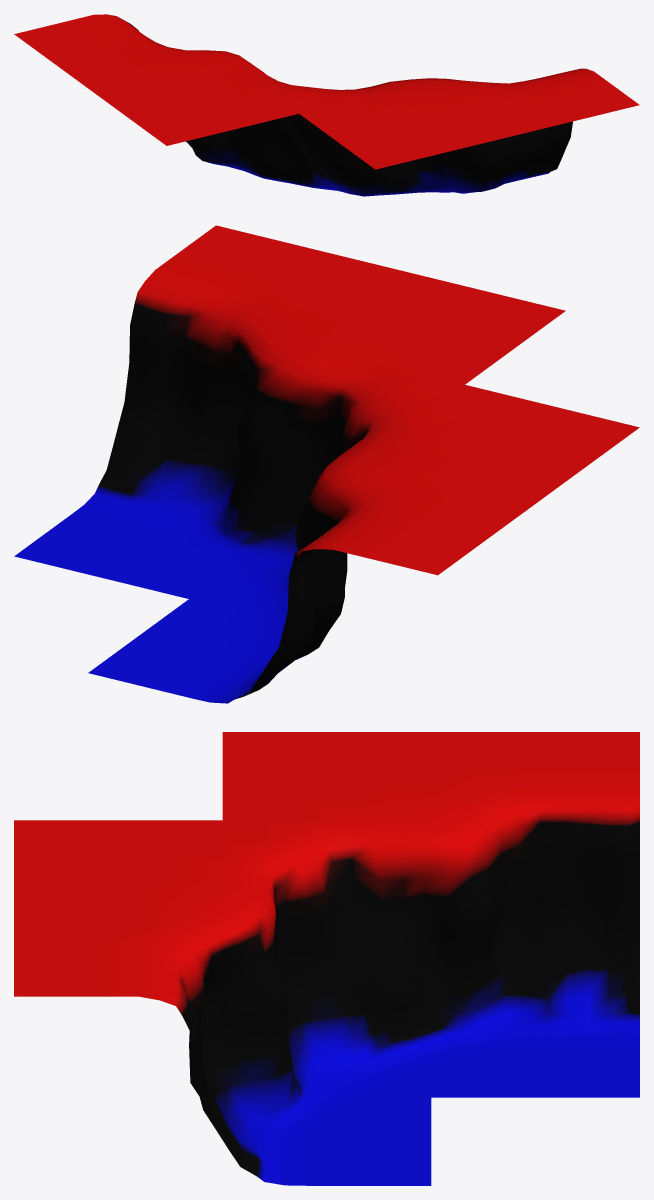
Rendered from RiveCliff06B Foreground.fbx.
The picture shows the model from 3 angles, top to bottom: view 1: azimuth 30°, elevation 25°; view 2: azimuth 150°, elevation 25°; view 3: azimuth 270°, elevation 25°; orthographic projection. The views are drawn at different scales.
Parts seen in each view (by area): view 1: RiveCliff06B Foreground; view 2: RiveCliff06B Foreground; view 3: RiveCliff06B Foreground.
Part boxes in pixels (left/top/right/bottom): RiveCliff06B Foreground: left=14, top=14, right=639, bottom=196; RiveCliff06B Foreground: left=14, top=225, right=639, bottom=703; RiveCliff06B Foreground: left=14, top=732, right=639, bottom=1185.
Bounding box in the file's own units: 3 × 1 × 3.
